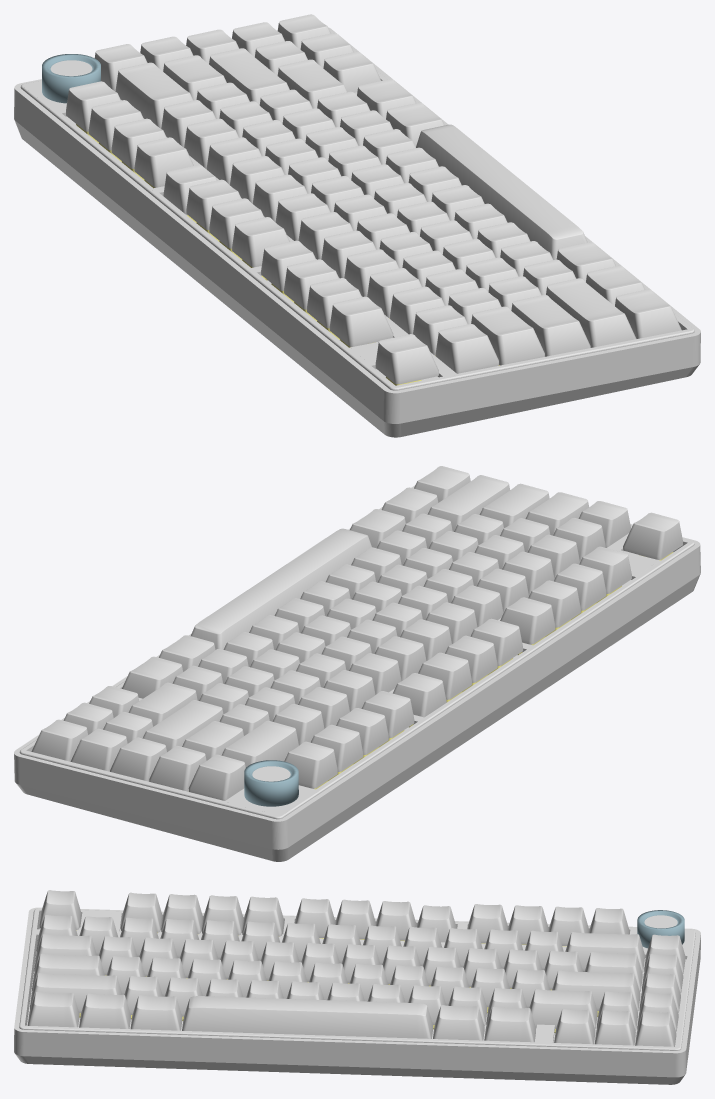
The model's file is Keyboard.fbx.
3 views of the same model, one above another, from view 1: azimuth 30°, elevation 25°; view 2: azimuth 150°, elevation 25°; view 3: azimuth 270°, elevation 25° (orthographic). The views are drawn at different scales.
Parts seen in each view (by area): view 1: Board, Plane, Keycap.050, Keycap.028, Keycap.036, Keycap.001, Keycap, Keycap.002, Keycap.015, Keycap.062, Keycap.063, Roller (+70 smaller); view 2: Board, Plane, Roller, Keycap.028, Keycap.050, Keycap, Keycap.062, Keycap.029, Keycap.013, Keycap.005, Keycap.014, Keycap.036 (+70 smaller); view 3: Board, Plane, Keycap.062, Keycap.050, Keycap.074, Keycap.028, Keycap.076, Keycap.079, Keycap.063, Keycap.075, Keycap.077, Keycap.036 (+71 smaller).
Part boxes in pixels (x1=…): Board: x1=14, y1=27, x2=700, y2=437; Plane: x1=416, y1=124, x2=587, y2=259; Keycap.050: x1=546, y1=278, x2=636, y2=347; Keycap.028: x1=115, y1=62, x2=193, y2=128; Keycap.036: x1=511, y1=295, x2=590, y2=356; Keycap.001: x1=471, y1=306, x2=544, y2=365; Keycap: x1=375, y1=334, x2=438, y2=384; Keycap.002: x1=329, y1=296, x2=393, y2=346; Keycap.015: x1=435, y1=324, x2=498, y2=373; Keycap.062: x1=209, y1=48, x2=289, y2=104; Keycap.063: x1=615, y1=289, x2=681, y2=338; Roller: x1=42, y1=54, x2=100, y2=103; Board: x1=14, y1=485, x2=700, y2=861; Plane: x1=191, y1=528, x2=371, y2=649; Roller: x1=244, y1=760, x2=298, y2=806; Keycap.028: x1=221, y1=720, x2=298, y2=767; Keycap.050: x1=427, y1=475, x2=509, y2=531; Keycap: x1=623, y1=512, x2=682, y2=559; Keycap.062: x1=142, y1=700, x2=223, y2=751; Keycap.029: x1=188, y1=754, x2=245, y2=800; Keycap.013: x1=284, y1=741, x2=337, y2=788; Keycap.005: x1=500, y1=597, x2=555, y2=644; Keycap.014: x1=149, y1=745, x2=206, y2=791; Keycap.036: x1=479, y1=483, x2=549, y2=527; Board: x1=14, y1=907, x2=700, y2=1084; Plane: x1=182, y1=996, x2=433, y2=1038; Keycap.062: x1=552, y1=970, x2=640, y2=1011; Keycap.050: x1=30, y1=973, x2=122, y2=1013; Keycap.074: x1=529, y1=989, x2=597, y2=1029; Keycap.028: x1=565, y1=932, x2=644, y2=972; Keycap.076: x1=130, y1=995, x2=182, y2=1030; Keycap.079: x1=433, y1=1005, x2=484, y2=1040; Keycap.063: x1=27, y1=992, x2=79, y2=1027; Keycap.075: x1=79, y1=993, x2=130, y2=1028; Keycap.077: x1=484, y1=1006, x2=535, y2=1042; Keycap.036: x1=32, y1=953, x2=104, y2=990.
Size of the model in its own units: 14.53 by 3.44 by 31.28.
